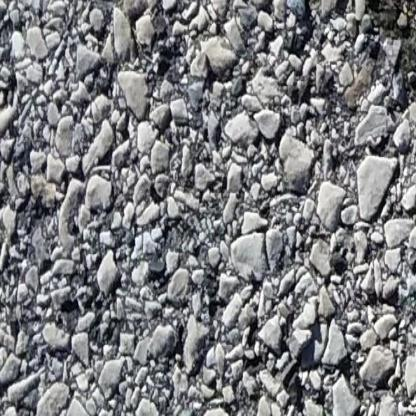Cracks: (294, 0, 416, 108)
